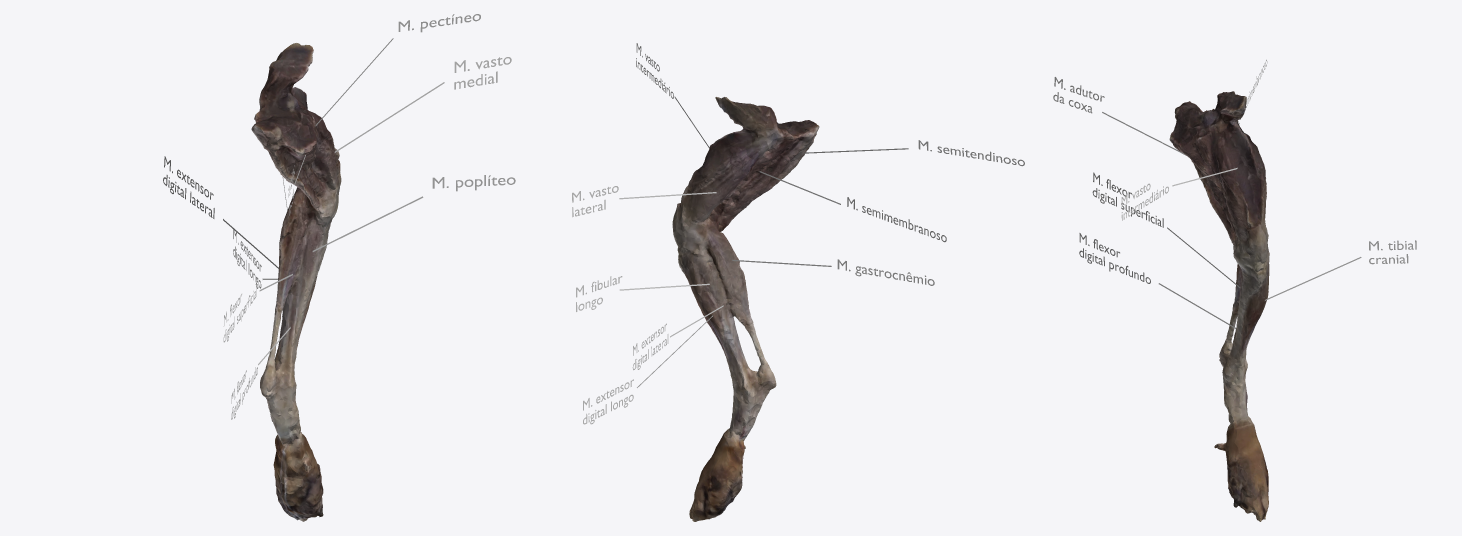
Rendered from mm. profundos pelvicos.glb.
The picture shows the model from 3 angles, left to right: view 1: azimuth 30°, elevation 25°; view 2: azimuth 150°, elevation 25°; view 3: azimuth 270°, elevation 25°; orthographic projection. The views are drawn at different scales.
Parts seen in each view (by area): view 1: 3DModel_LowPoly.001; view 2: 3DModel_LowPoly.001; view 3: 3DModel_LowPoly.001, Texto.023, Texto.020.
Boxes of the visible parts, <box> form: 3DModel_LowPoly.001: <box>251,43,341,521</box>; 3DModel_LowPoly.001: <box>672,97,819,521</box>; 3DModel_LowPoly.001: <box>1169,91,1269,521</box>; Texto.023: <box>1079,233,1150,283</box>; Texto.020: <box>1092,172,1163,227</box>.
Bounding box in the file's own units: 3.27 × 3.37 × 2.74.
Materials: 1 (1 with a texture image).
